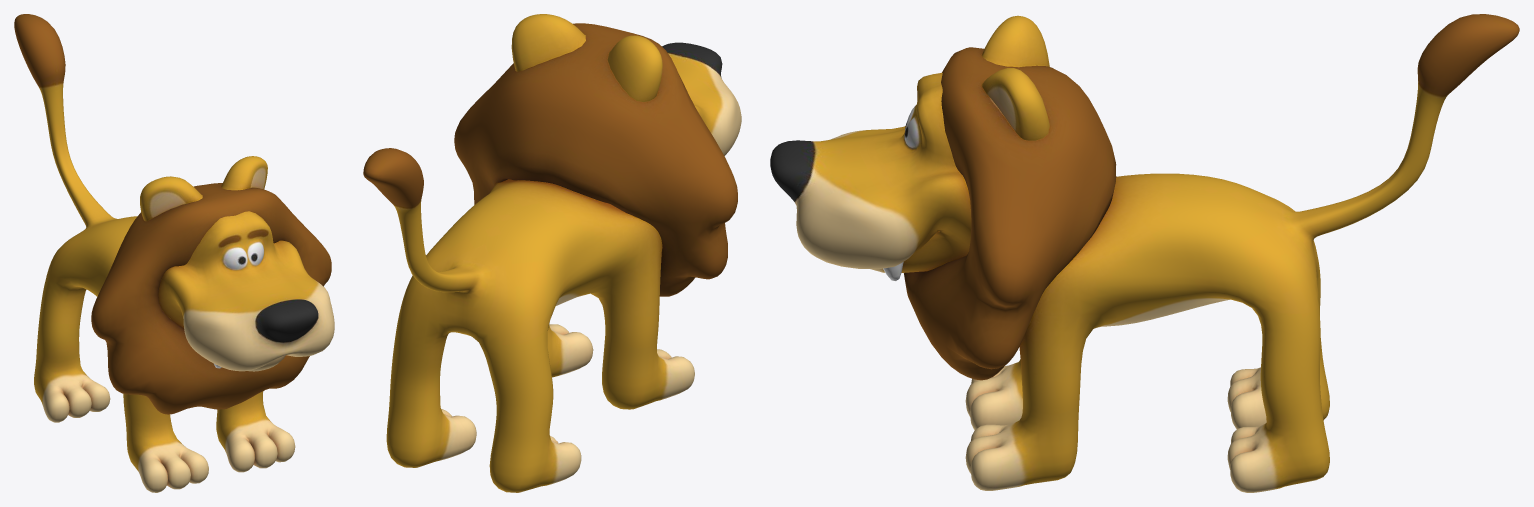
Rendered from leao.glb.
3 views of the same model, side by side, from view 1: azimuth 30°, elevation 25°; view 2: azimuth 150°, elevation 25°; view 3: azimuth 270°, elevation 25° (orthographic). The views are drawn at different scales.
Parts seen in each view (by area): view 1: CartoonCat.001, Cube.013; view 2: CartoonCat.001, Cube.013; view 3: CartoonCat.001, Cube.013.
Boxes of the visible parts, x1,y1,x2,y2 form: CartoonCat.001: [14, 14, 334, 492]; Cube.013: [91, 183, 331, 414]; CartoonCat.001: [363, 14, 741, 492]; Cube.013: [454, 23, 737, 296]; CartoonCat.001: [770, 14, 1519, 492]; Cube.013: [904, 47, 1116, 380].
Bounding box in the file's own units: 3.69 × 4.85 × 7.6.
Materials: 1 (1 with a texture image).
